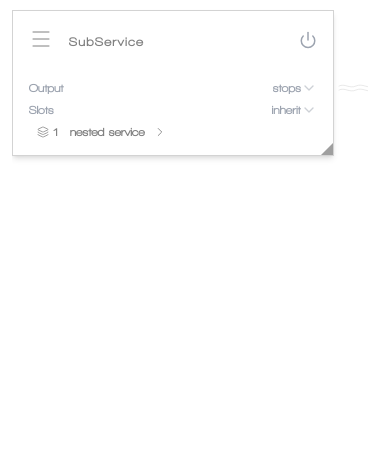
Scenario: a scope's panel on a REST runtime › draws the nested pipeline with the panels its services have
Click the button named "Show content inline" at (160, 132), box [153,125,167,139]
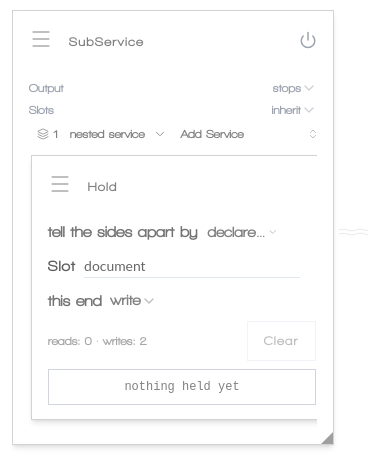
Expected: the text "reads: 0 · writes: 2" is shown, [48,332,147,350]
